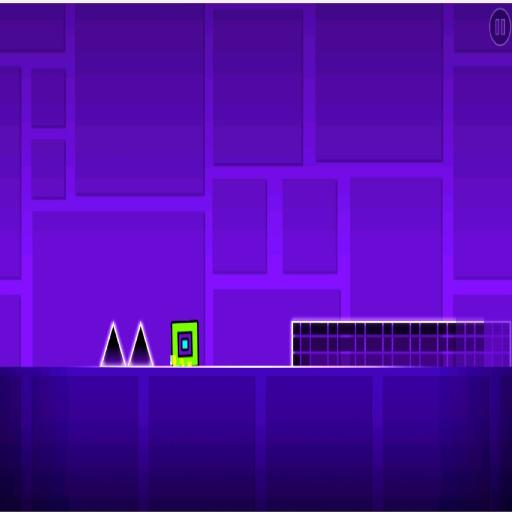block: (290, 321, 512, 369)
player: (170, 318, 202, 369)
spike: (128, 322, 153, 366), (101, 323, 125, 366)
